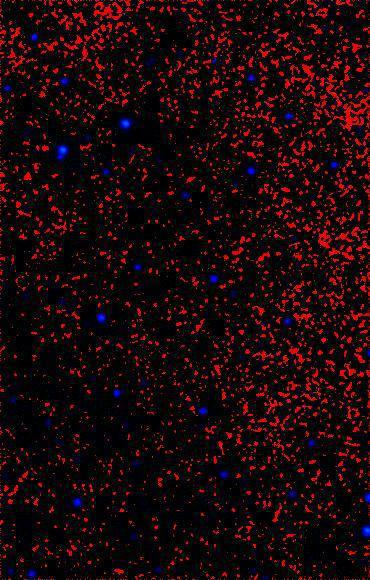star: (41, 152, 71, 182)
